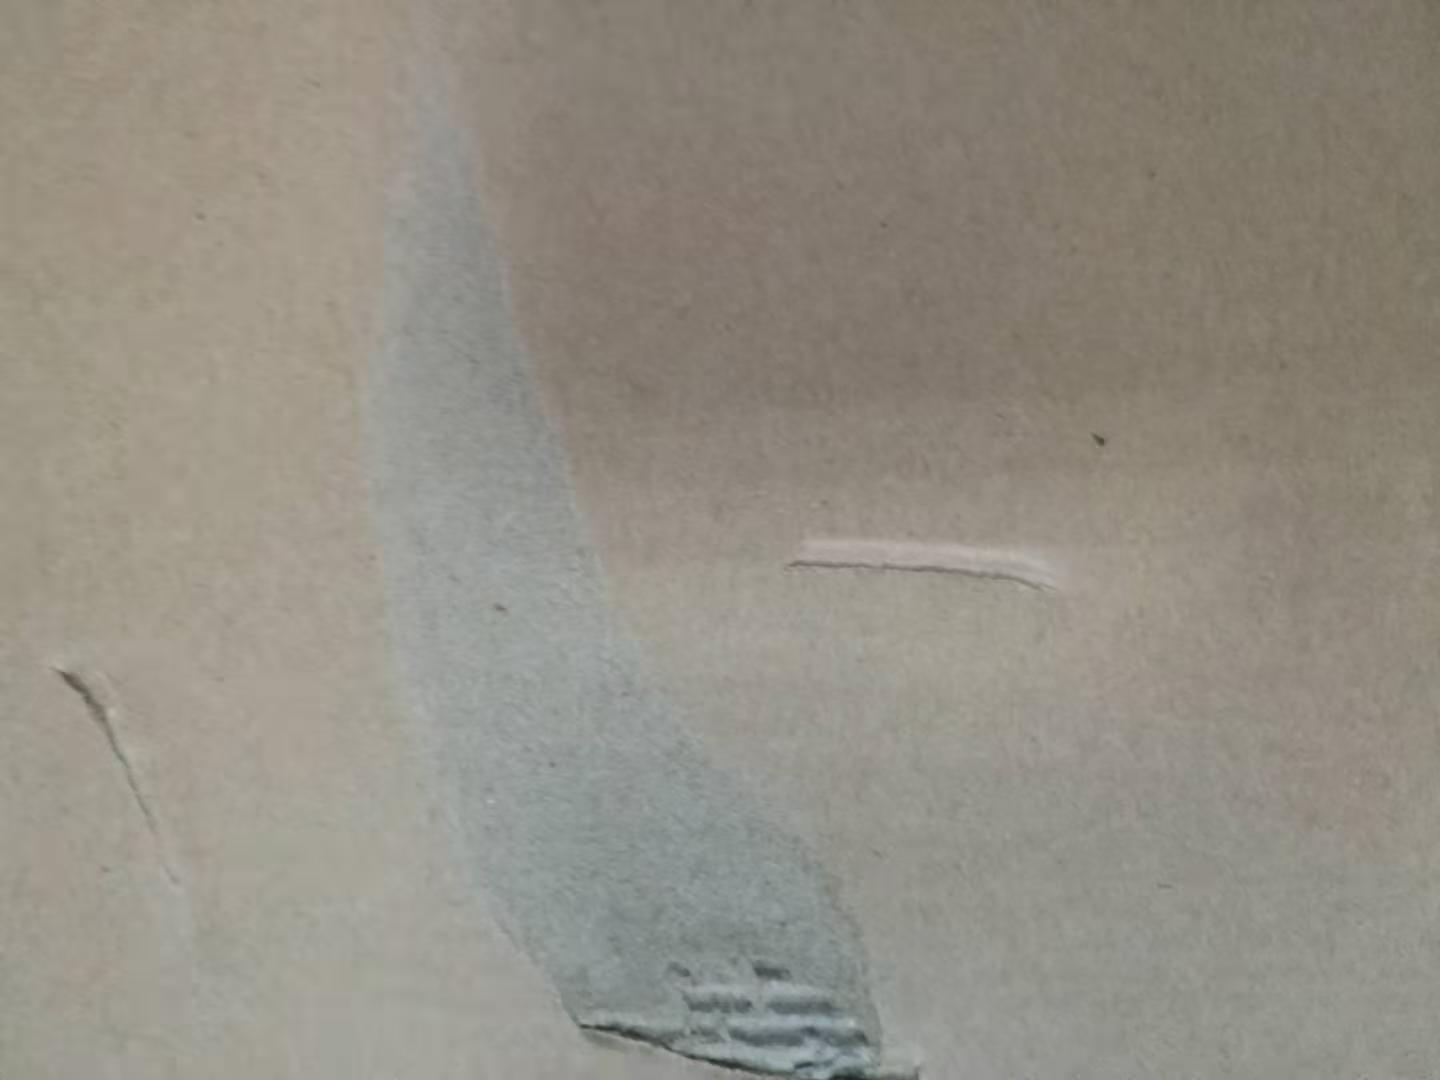defect: (310, 12, 952, 1080), (39, 638, 234, 944), (764, 504, 1094, 625)
